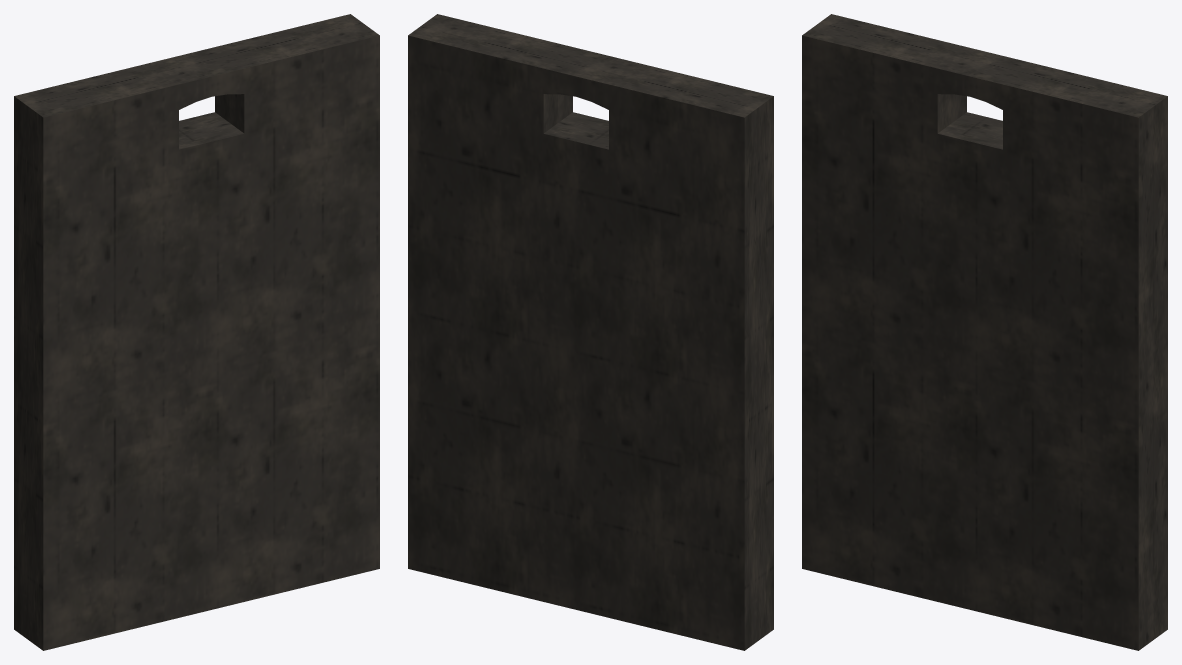
File: Window foundation.fbx
3 views of the same model, side by side, from view 1: azimuth 30°, elevation 25°; view 2: azimuth 150°, elevation 25°; view 3: azimuth 330°, elevation 25° (orthographic).
Parts seen in each view (by area): view 1: Fundação com janela; view 2: Fundação com janela; view 3: Fundação com janela.
Boxes of the visible parts, x1=… form: Fundação com janela: x1=14, y1=14, x2=379, y2=650; Fundação com janela: x1=408, y1=14, x2=773, y2=650; Fundação com janela: x1=802, y1=14, x2=1167, y2=650.
Size of the model in its own units: 198 by 300 by 30.
